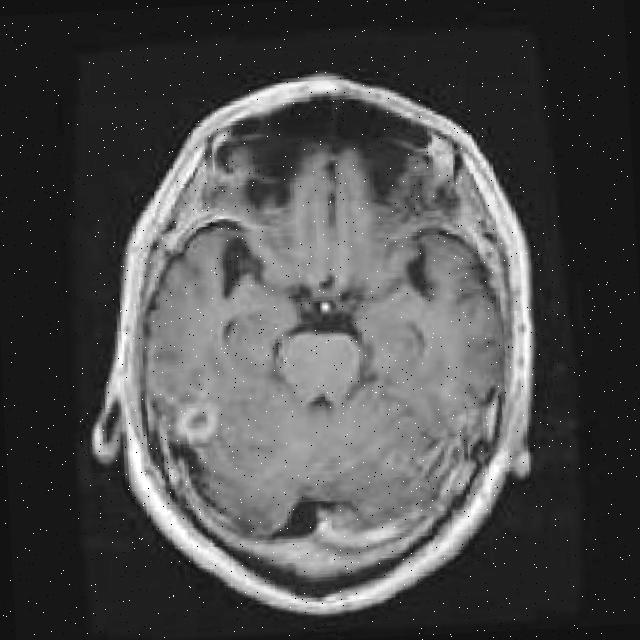EMCI: (163, 370, 288, 540)
